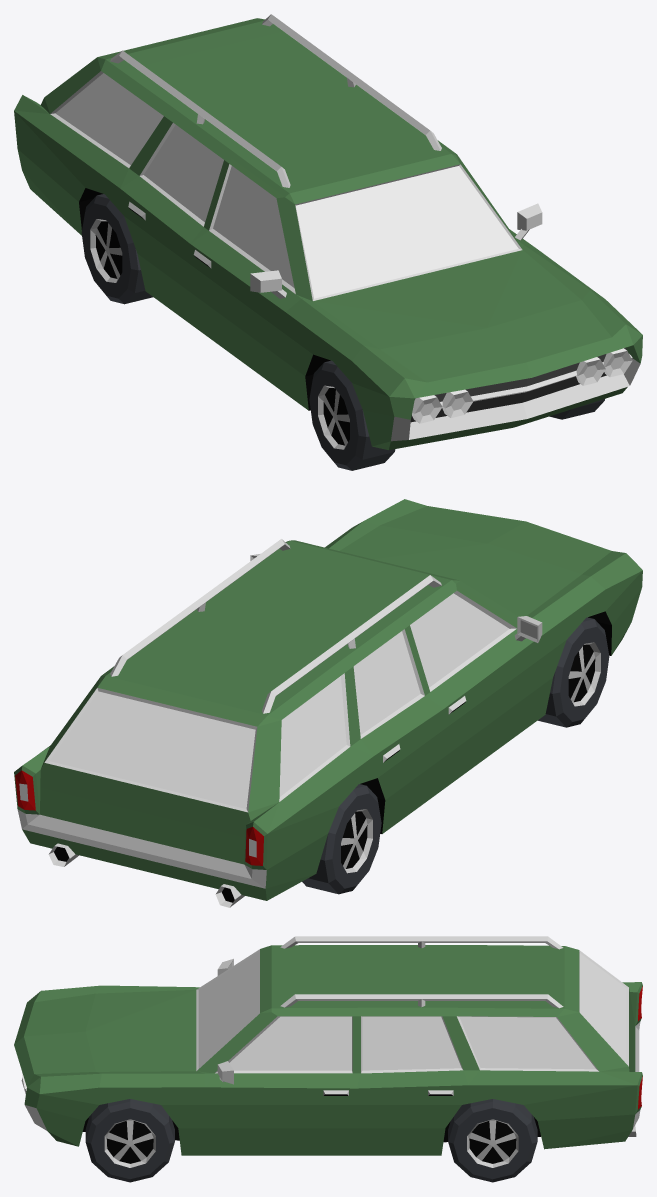
The model's file is station_wagon.fbx.
3 views of the same model, one above another, from view 1: azimuth 30°, elevation 25°; view 2: azimuth 150°, elevation 25°; view 3: azimuth 270°, elevation 25° (orthographic). The views are drawn at different scales.
Parts seen in each view (by area): view 1: Bodywork, Door Right, Wheel Front Right, Wheel Rear Right, Door Left; view 2: Bodywork, Door Right, Wheel Rear Right, Wheel Front Right; view 3: Bodywork, Door Left, Wheel Rear Left, Wheel Front Left.
Boxes of the visible parts, x1,y1,x2,y2 form: Bodywork: [14, 14, 642, 450]; Door Right: [190, 158, 304, 385]; Wheel Front Right: [309, 360, 395, 470]; Wheel Rear Right: [81, 194, 153, 304]; Door Left: [438, 140, 542, 249]; Bodywork: [14, 499, 642, 907]; Door Right: [403, 584, 542, 780]; Wheel Rear Right: [302, 784, 381, 894]; Wheel Front Right: [538, 617, 609, 727]; Bodywork: [14, 936, 642, 1155]; Door Left: [205, 1012, 356, 1144]; Wheel Rear Left: [448, 1099, 537, 1182]; Wheel Front Left: [85, 1099, 174, 1182].
Size of the model in its own units: 2.04 by 1.44 by 4.84.
